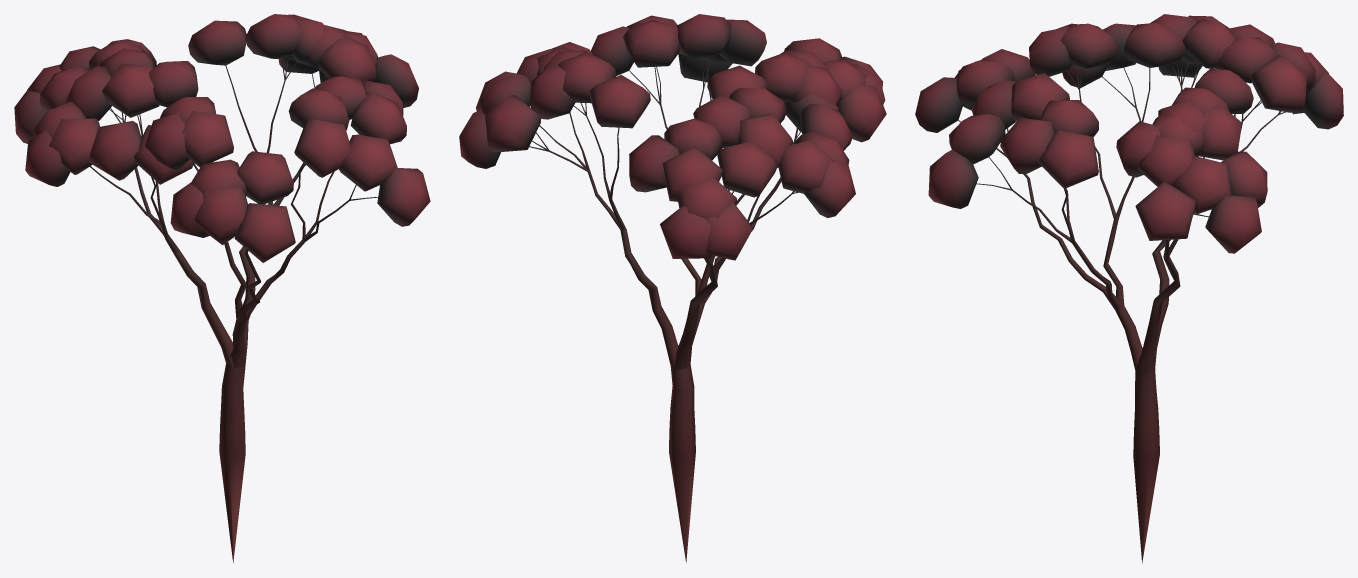
The model's file is plants-trees-palms-red-umbrella-tree_v3.glb.
3 renders of one model, left to right at view 1: azimuth 30°, elevation 25°; view 2: azimuth 150°, elevation 25°; view 3: azimuth 270°, elevation 25°, orthographic.
Parts seen in each view (by area): view 1: Red Umbrella Tree_v3; view 2: Red Umbrella Tree_v3; view 3: Red Umbrella Tree_v3.
Boxes of the visible parts, left/top/right/bottom form: Red Umbrella Tree_v3: left=14, top=14, right=430, bottom=562; Red Umbrella Tree_v3: left=459, top=14, right=886, bottom=562; Red Umbrella Tree_v3: left=915, top=14, right=1343, bottom=563.
Bounding box in the file's own units: 3.83 × 5 × 3.79.
